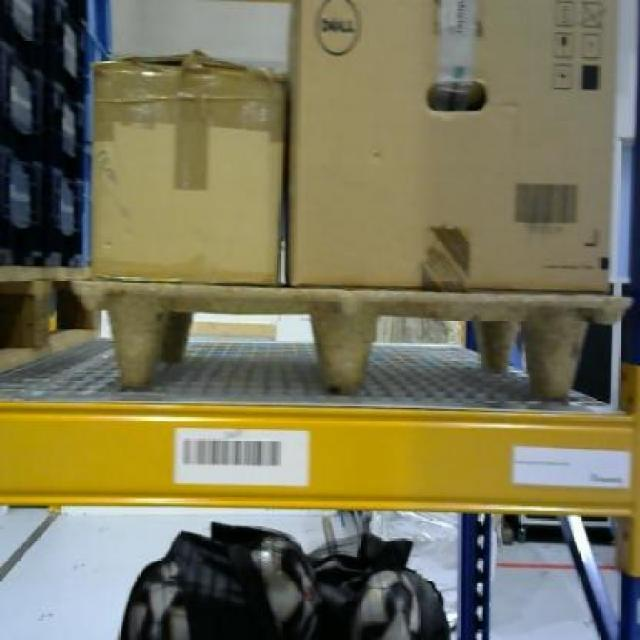box: (293, 2, 613, 290), (90, 56, 282, 284)
